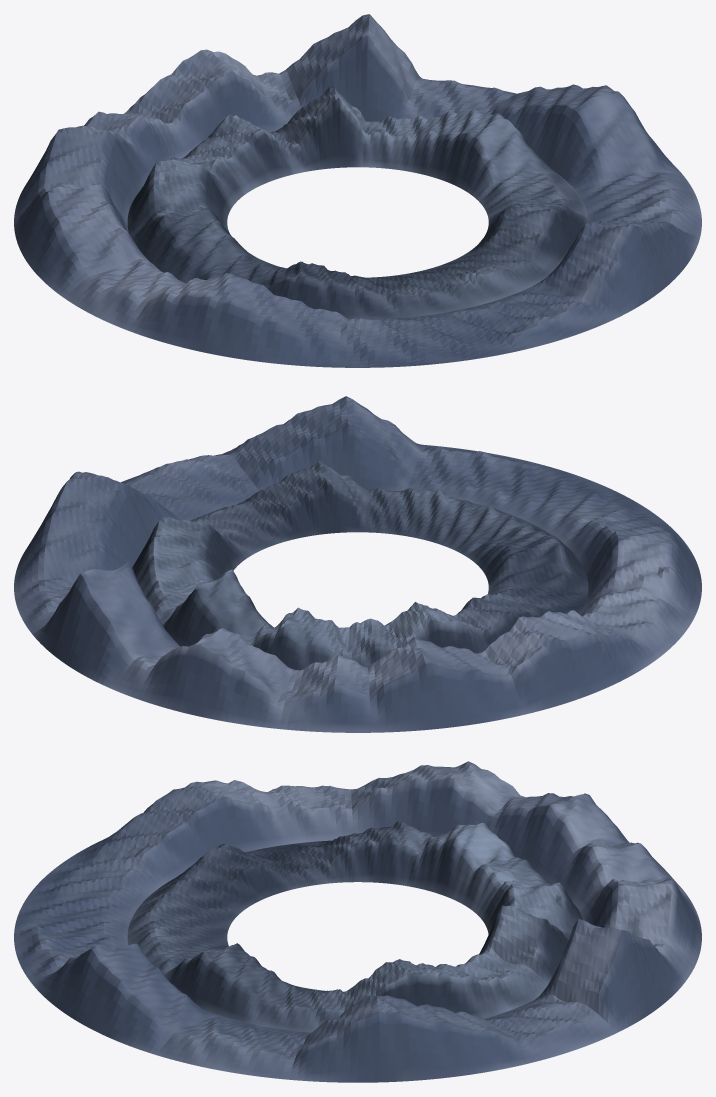
The model's file is teton-skyline.glb.
The picture shows the model from 3 angles, top to bottom: view 1: azimuth 30°, elevation 25°; view 2: azimuth 150°, elevation 25°; view 3: azimuth 270°, elevation 25°; orthographic projection.
Parts seen in each view (by area): view 1: Teton distant cirque, Teton foreground spurs; view 2: Teton distant cirque, Teton foreground spurs; view 3: Teton distant cirque, Teton foreground spurs.
Boxes of the visible parts, x1,y1,x2,y2 form: Teton distant cirque: [14, 14, 701, 367]; Teton foreground spurs: [127, 86, 588, 319]; Teton distant cirque: [14, 396, 701, 732]; Teton foreground spurs: [132, 460, 588, 670]; Teton distant cirque: [14, 761, 701, 1082]; Teton foreground spurs: [127, 820, 584, 1032].
Bounding box in the file's own units: 200 × 25.11 × 200.
